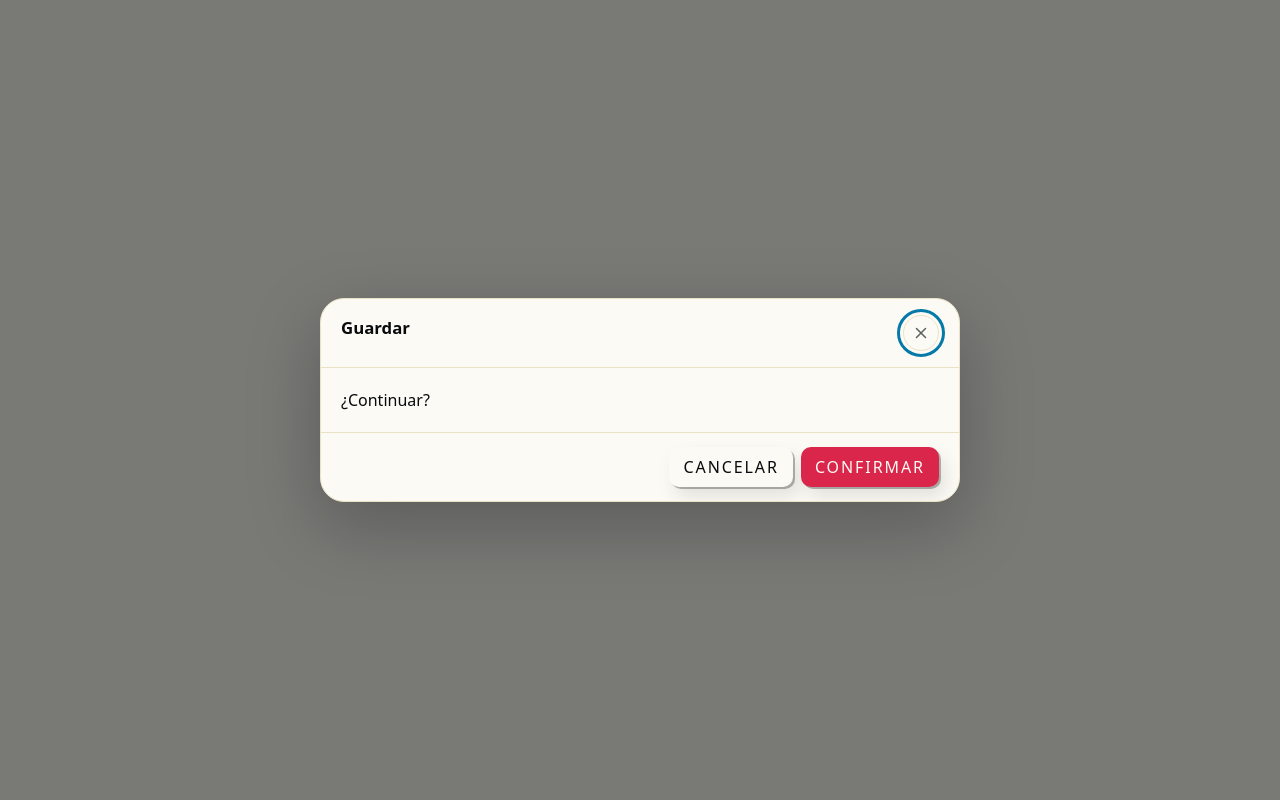
shared design-system primitives › reports rejected confirmations through the global notification host
The image size is (1280, 800).
Click the button "Confirmar" at (870, 467), box x1=801 y1=447 x2=939 y2=487
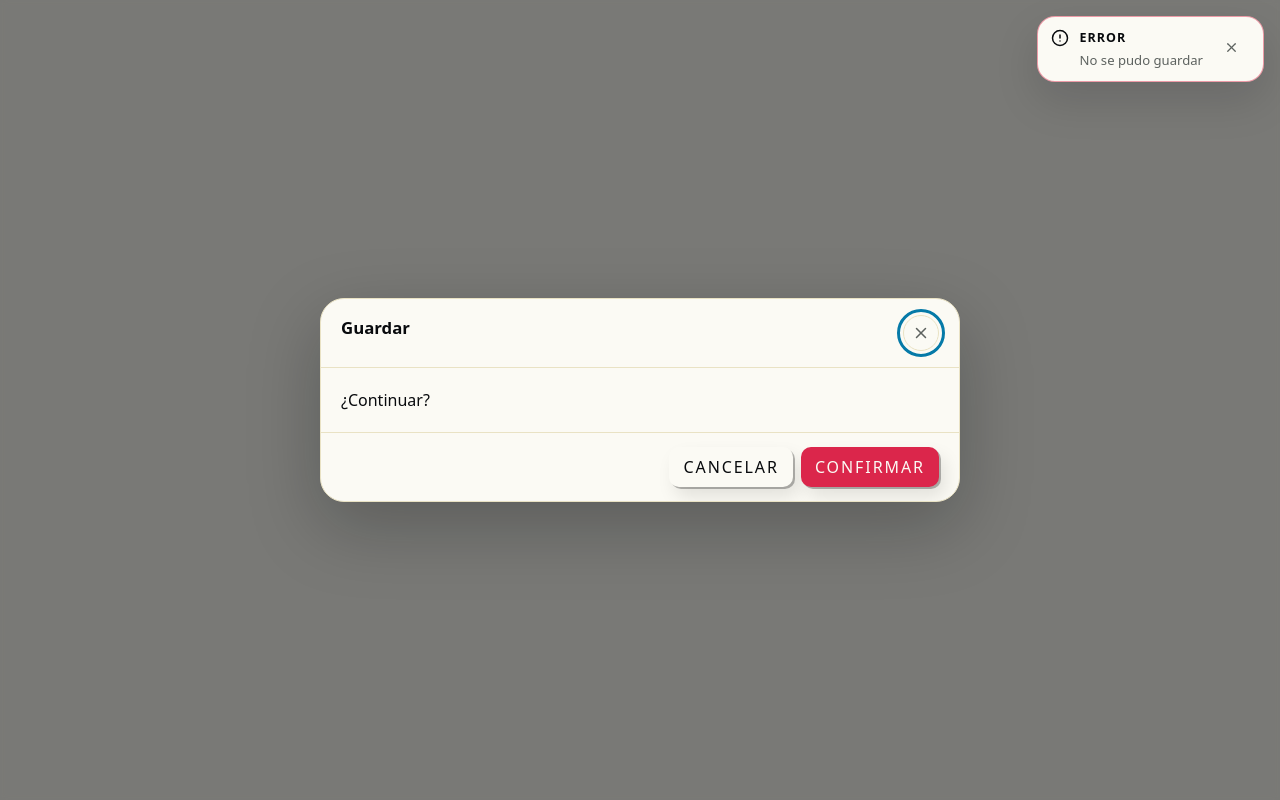
Now the text "No se pudo guardar" is shown, box x1=1080 y1=52 x2=1203 y2=69
